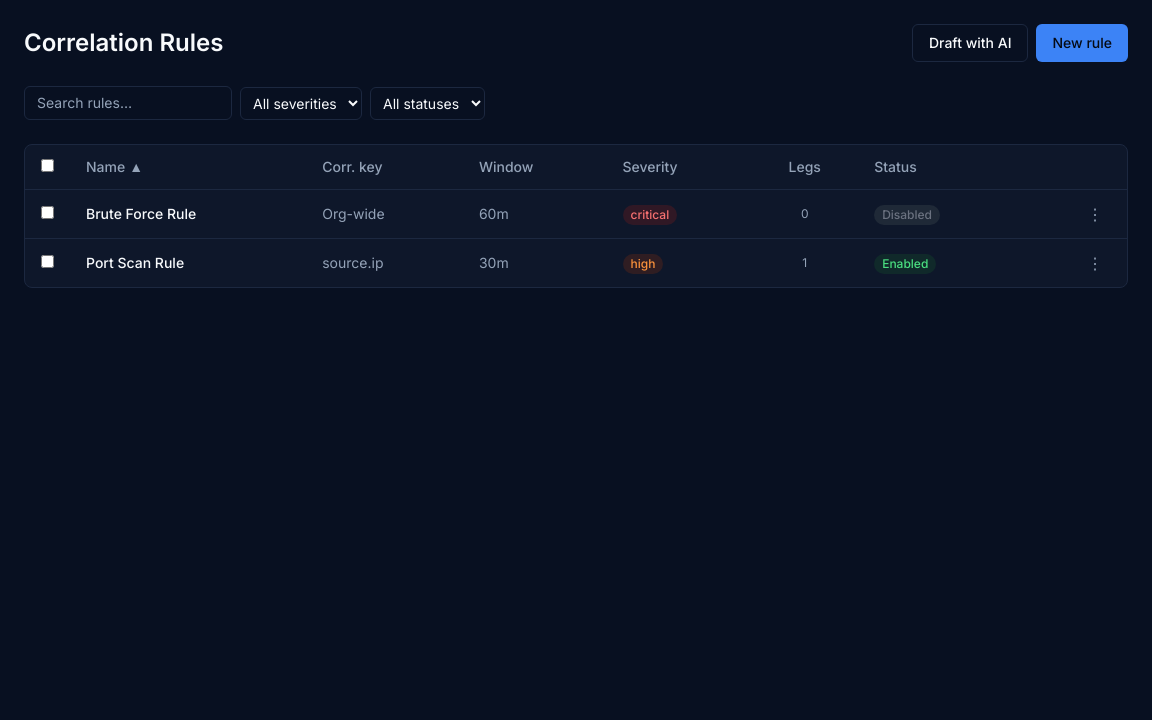
Test: CorrelationRulesAdmin › creates a new rule via the drawer
Expected: the heading "Correlation Rules" is shown, [24, 27, 223, 59]
Click the button "New rule": coordinates (1082, 43) [1036, 24, 1128, 62]
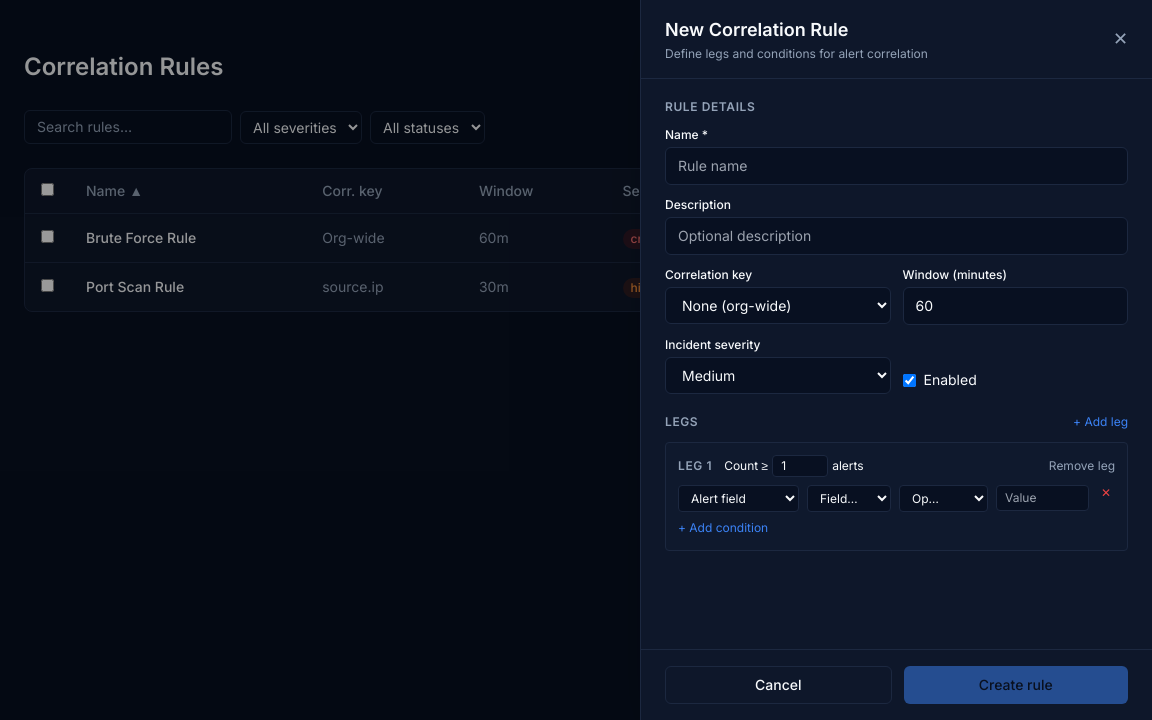
In the field with placeholder "Rule name": coordinates (896, 166) [665, 147, 1128, 185], type "New Rule"
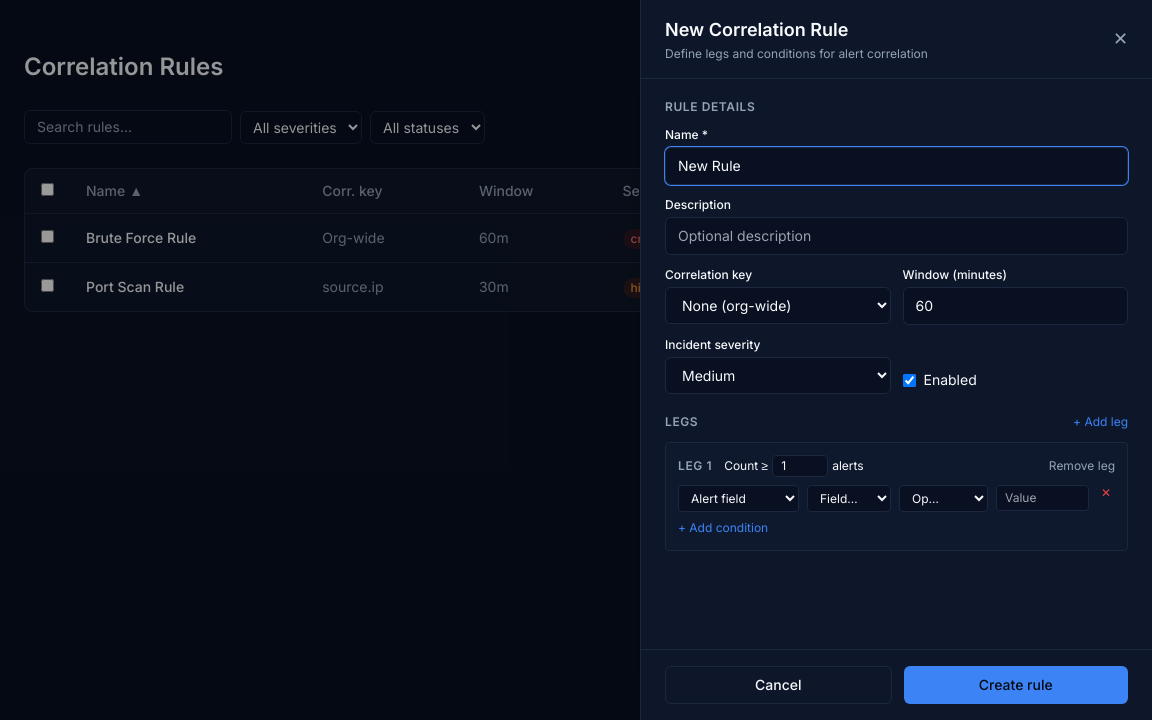
Click the button "Create rule": coordinates (1016, 685) [904, 666, 1128, 704]
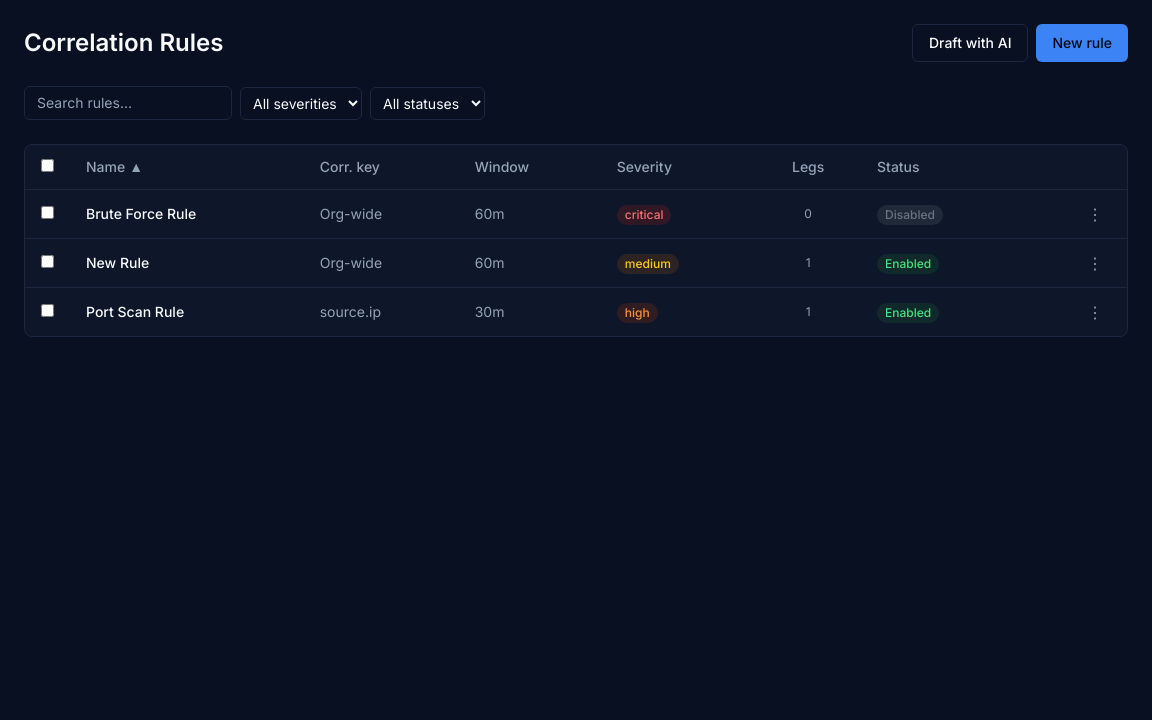
Expected: the text "New Rule" is shown, [70, 238, 304, 288]
